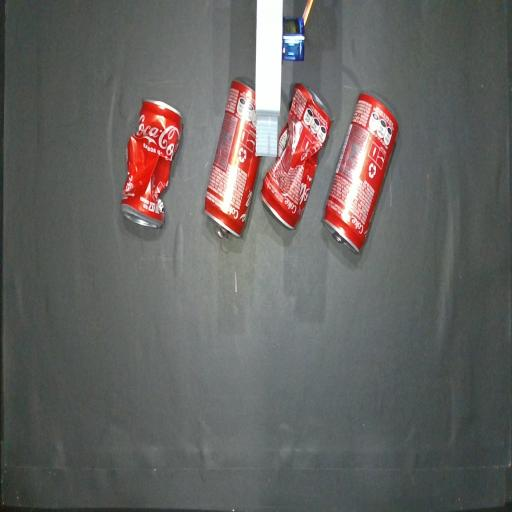lata: (323, 93, 398, 252), (205, 79, 259, 238)
lata_defectuoso: (261, 84, 331, 229), (122, 101, 182, 227)
